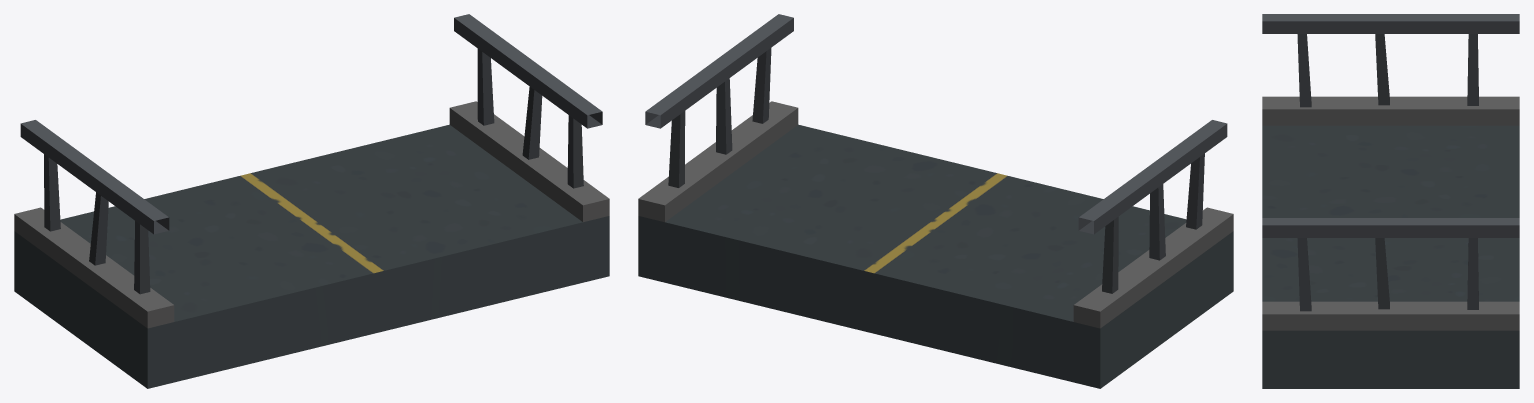
File: Asphalt_E2.fbx
3 views of the same model, side by side, from view 1: azimuth 30°, elevation 25°; view 2: azimuth 150°, elevation 25°; view 3: azimuth 270°, elevation 25° (orthographic). The views are drawn at different scales.
Parts seen in each view (by area): view 1: Asphalt_E2; view 2: Asphalt_E2; view 3: Asphalt_E2.
Boxes of the visible parts, x1,y1,x2,y2 form: Asphalt_E2: (14,14,609,388); Asphalt_E2: (638,14,1233,388); Asphalt_E2: (1262,14,1519,388).
Size of the model in its own units: 800 by 275 by 400.
1 material, 1 textured.
